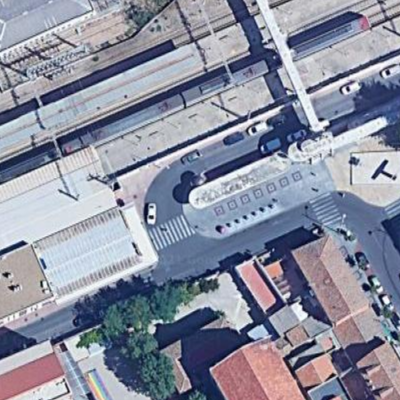tree: (100, 302, 163, 354), (132, 354, 184, 400), (151, 283, 209, 317)
